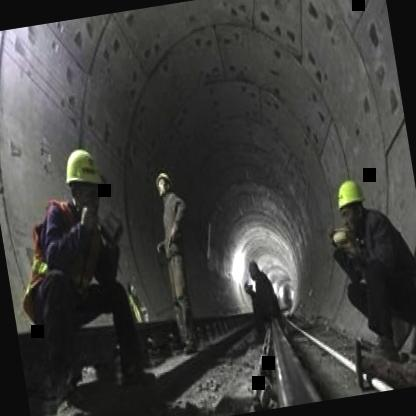helmet: (57, 140, 110, 221), (330, 170, 372, 236), (150, 166, 180, 204)
